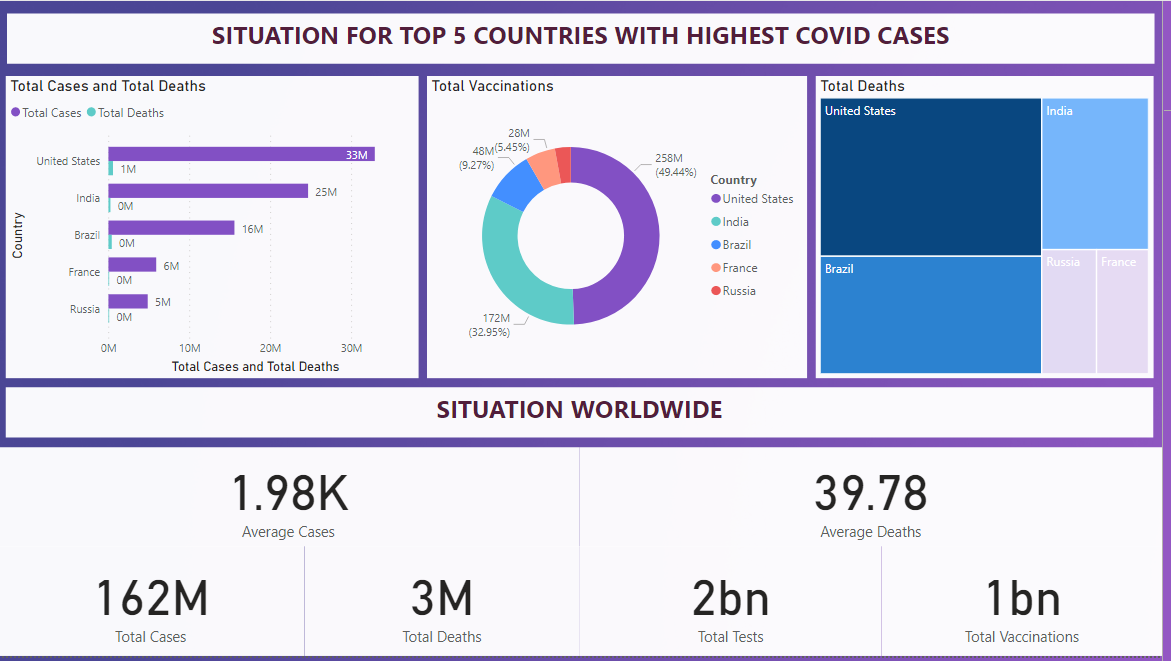

What the dashboard file says about the page in this screenshot:
{"tool":"powerbi","page":{"name":"Covid Visualization","canvas":[1280,720],"ordinal":2},"visuals":[{"type":"clusteredBarChart","title":"Total Cases and Total Deaths","fields":{"Category":["Covid Data Visualization.Country"],"Y":["Covid Data Visualization.Total Cases","Covid Data Visualization.Total Deaths"]},"box":[9.6,82.4,453.2,332.4],"z":0},{"type":"donutChart","title":"Total Vaccinations","fields":{"Y":["Covid Data Visualization.Total Vaccinations"],"Category":["Covid Data Visualization.Country"]},"box":[472.4,82.4,417.5,332.4],"z":1000},{"type":"treemap","title":"Total Deaths","fields":{"Group":["Covid Data Visualization.Country"],"Values":["Covid Data Visualization.Total Deaths"]},"box":[899.6,82.4,370.8,332.4],"z":2000},{"type":"card","fields":{"Values":["Covid Data Visualization.Total Cases"]},"box":[0,598.8,337.9,120.9],"z":3000},{"type":"card","fields":{"Values":["Covid Data Visualization.Average Deaths"]},"box":[640,490.3,640,108.5],"z":4000},{"type":"card","fields":{"Values":["Covid Data Visualization.Average Cases"]},"box":[0,490.3,640,108.5],"z":5000},{"type":"card","fields":{"Values":["Covid Data Visualization.Total Deaths"]},"box":[337.9,598.8,302.1,120.9],"z":6000},{"type":"card","fields":{"Values":["Covid Data Visualization.Total Tests"]},"box":[640,598.8,332.4,120.9],"z":7000},{"type":"card","fields":{"Values":["Covid Data Visualization.Total Vaccinations"]},"box":[972.4,598.8,307.6,120.9],"z":8000},{"type":"textbox","box":[9.6,424.4,1260.8,54.9],"z":8001},{"type":"textbox","box":[11,13.7,1260.8,54.9],"z":8002}]}

Visuals, with their boxes in screenshot pixels (x1, y1, x2, y2), scaled from the page's 1280x720 canvas onto the 1171x661 screenshot:
"Total Cases and Total Deaths" clusteredBarChart: box(9, 76, 423, 381)
"Total Vaccinations" donutChart: box(432, 76, 814, 381)
"Total Deaths" treemap: box(823, 76, 1162, 381)
card - Covid Data Visualization.Total Cases: box(0, 550, 309, 660)
card - Covid Data Visualization.Average Deaths: box(586, 450, 1170, 550)
card - Covid Data Visualization.Average Cases: box(0, 450, 586, 550)
card - Covid Data Visualization.Total Deaths: box(309, 550, 586, 660)
card - Covid Data Visualization.Total Tests: box(586, 550, 890, 660)
card - Covid Data Visualization.Total Vaccinations: box(890, 550, 1170, 660)
textbox: box(9, 390, 1162, 440)
textbox: box(10, 13, 1163, 63)
